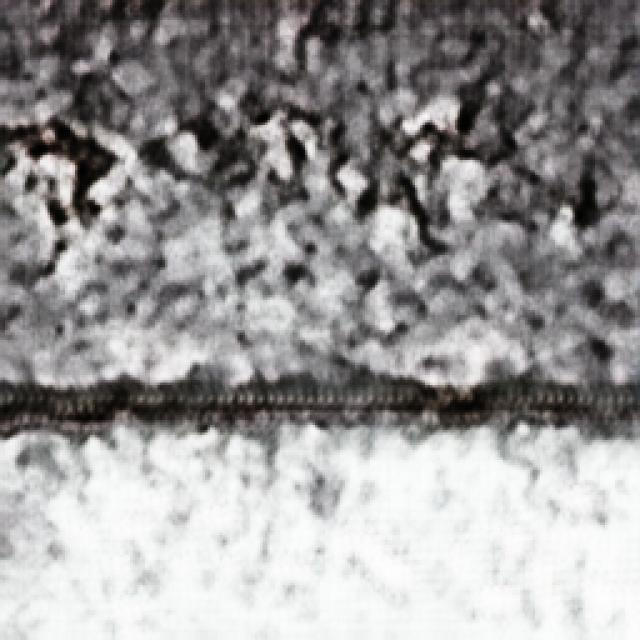Dry Waste: (25, 16, 640, 573)
